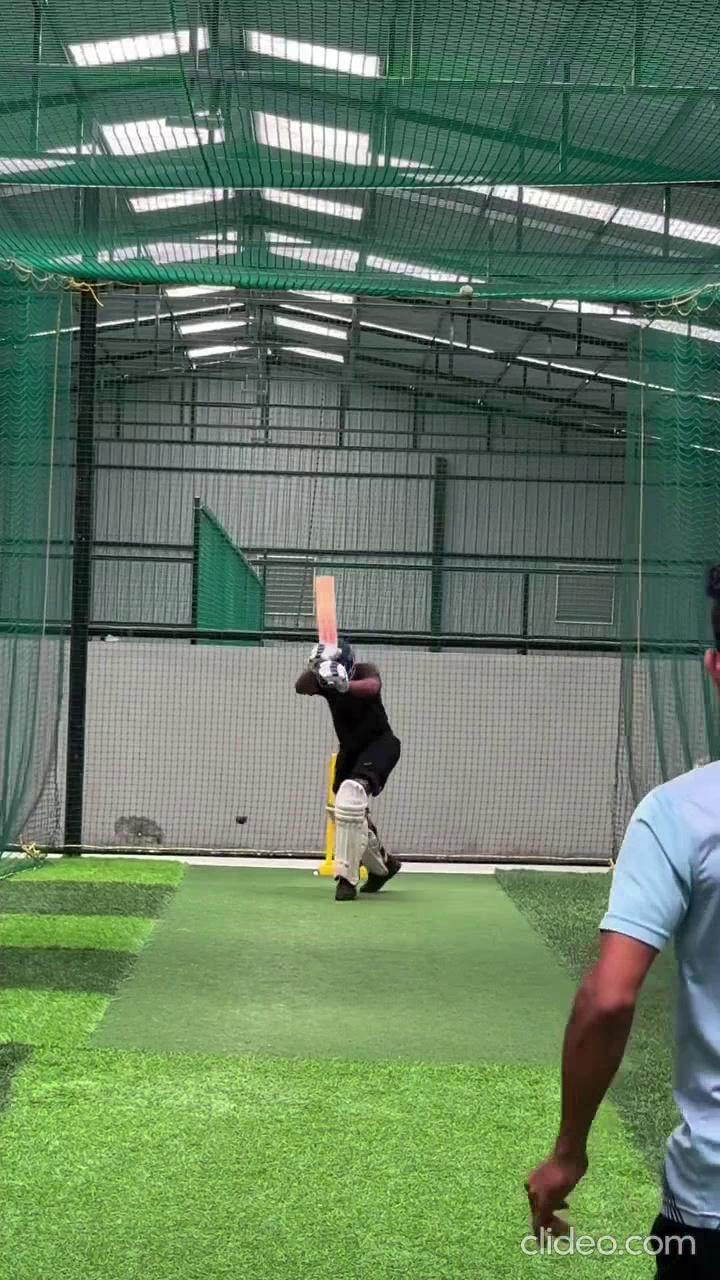bat: (313, 573, 340, 648)
